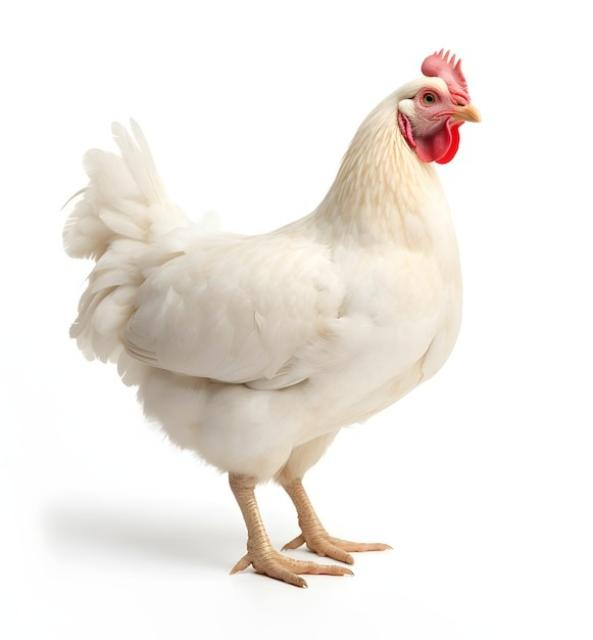Chicken: (59, 46, 486, 588)
